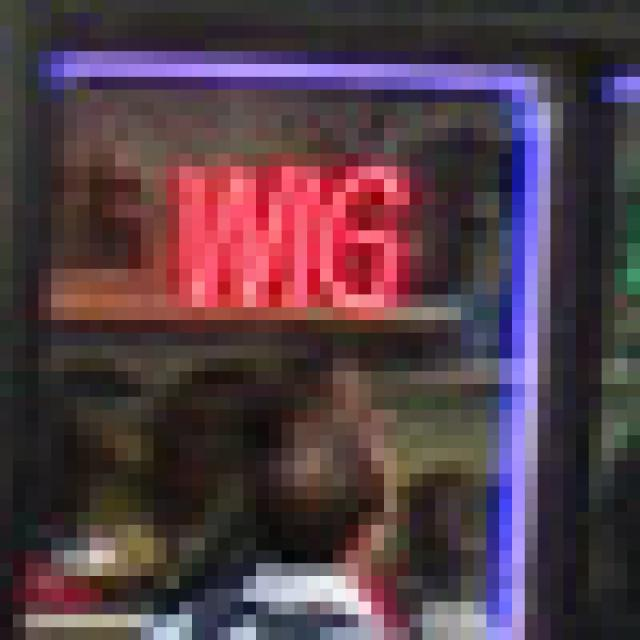no_fire: (6, 14, 610, 597)
